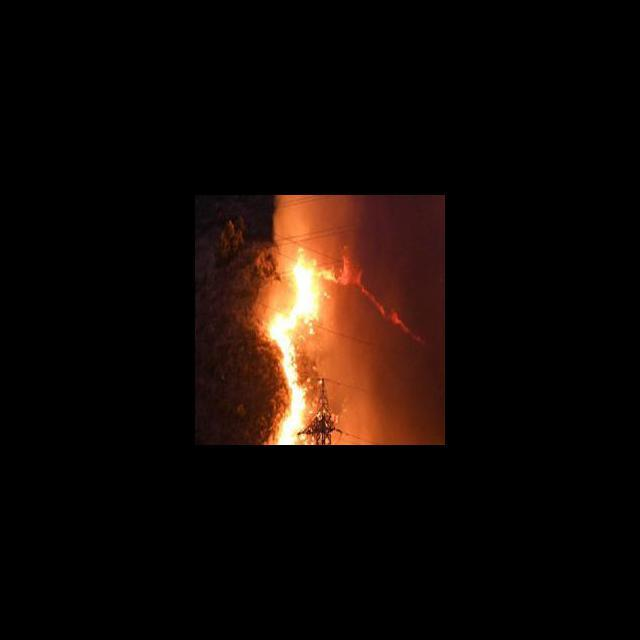Fire: (262, 243, 324, 445)
